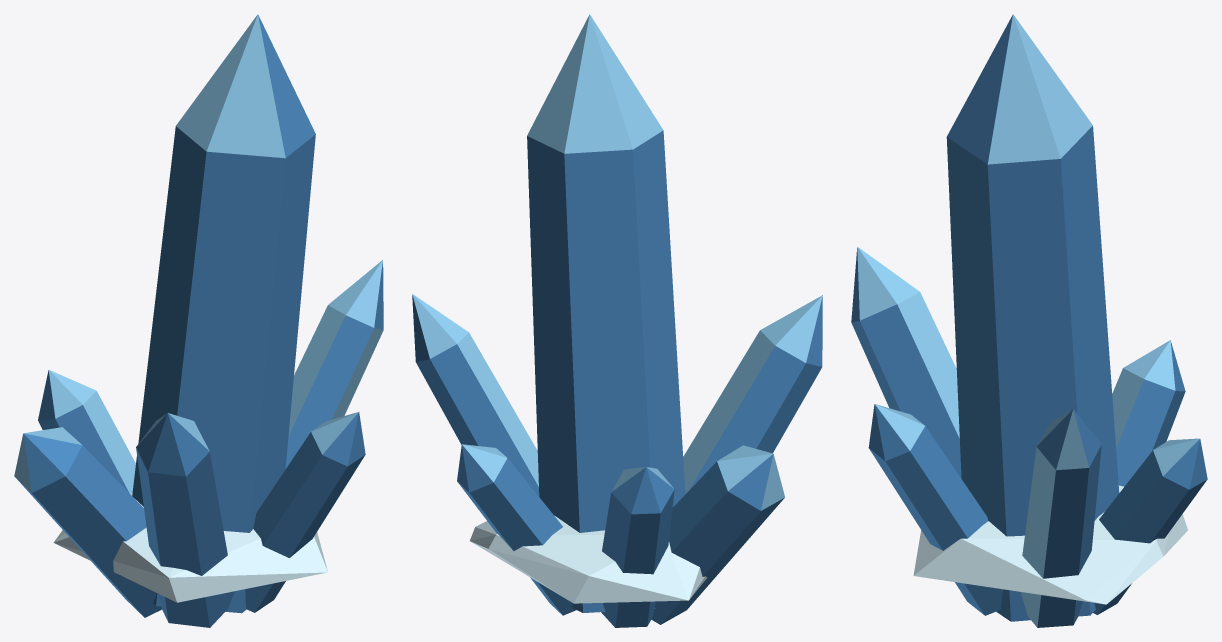
The model's file is ice_crystal.glb.
The picture shows the model from 3 angles, left to right: view 1: azimuth 30°, elevation 25°; view 2: azimuth 150°, elevation 25°; view 3: azimuth 270°, elevation 25°; orthographic projection. The views are drawn at different scales.
Visible parts, largest first — view 1: IceCrystal; view 2: IceCrystal; view 3: IceCrystal.
Part boxes in pixels (x1,y1,x2,y2): IceCrystal: [14, 14, 383, 627]; IceCrystal: [412, 14, 822, 627]; IceCrystal: [851, 14, 1207, 627].
Bounding box in the file's own units: 1.88 × 2.85 × 1.52.
